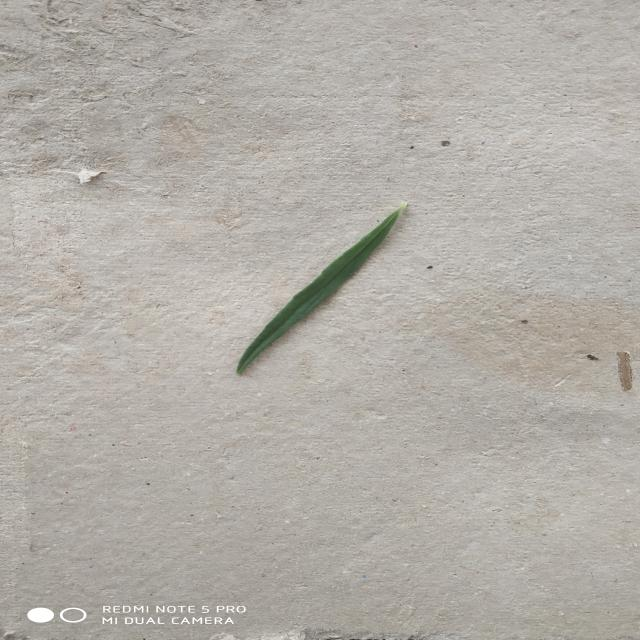thambe: (236, 202, 407, 374)
